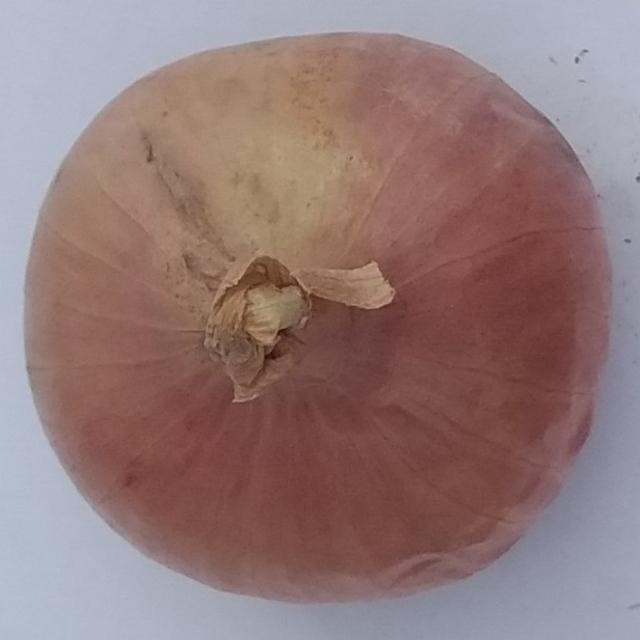onion: (24, 31, 616, 608)
